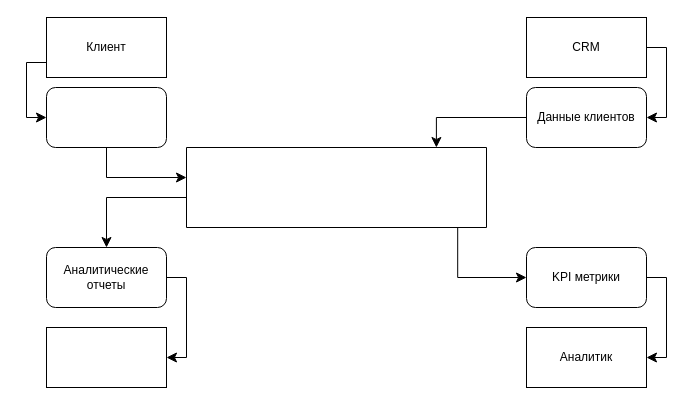
Some shapes in this 694 by 405 pixel diagram are drawn without their labels. Each missing label, with the box of its shape:
Маркетолог: (46, 326, 166, 388)
Обработать запросы: (46, 86, 166, 148)
Система автоматизации маркетинга: (186, 146, 486, 228)
